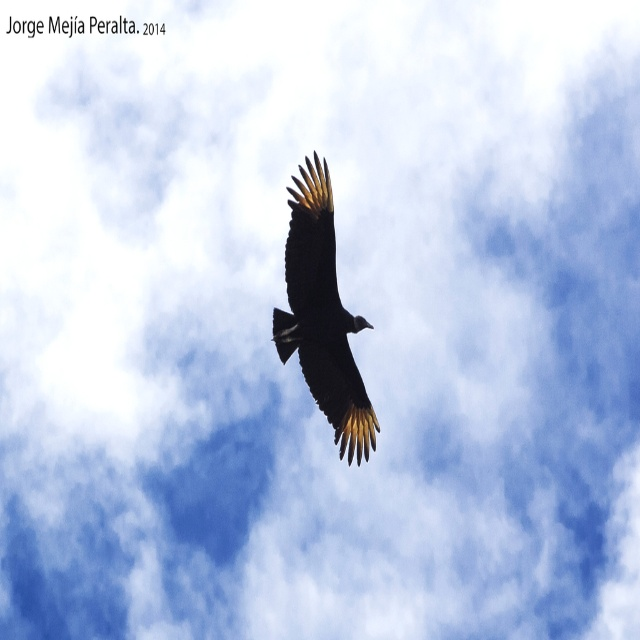Raven: (262, 142, 376, 463)
